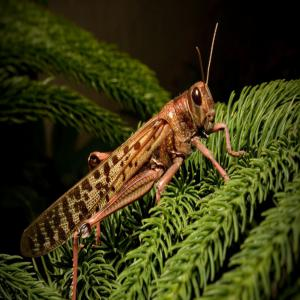locust: (24, 85, 216, 266)
